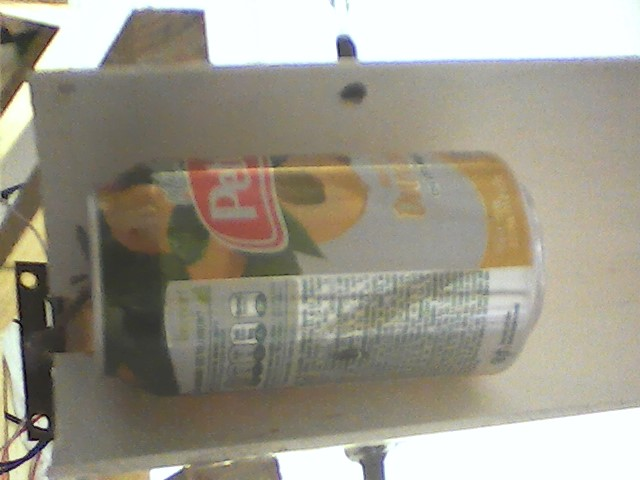lata: (82, 150, 556, 395)
